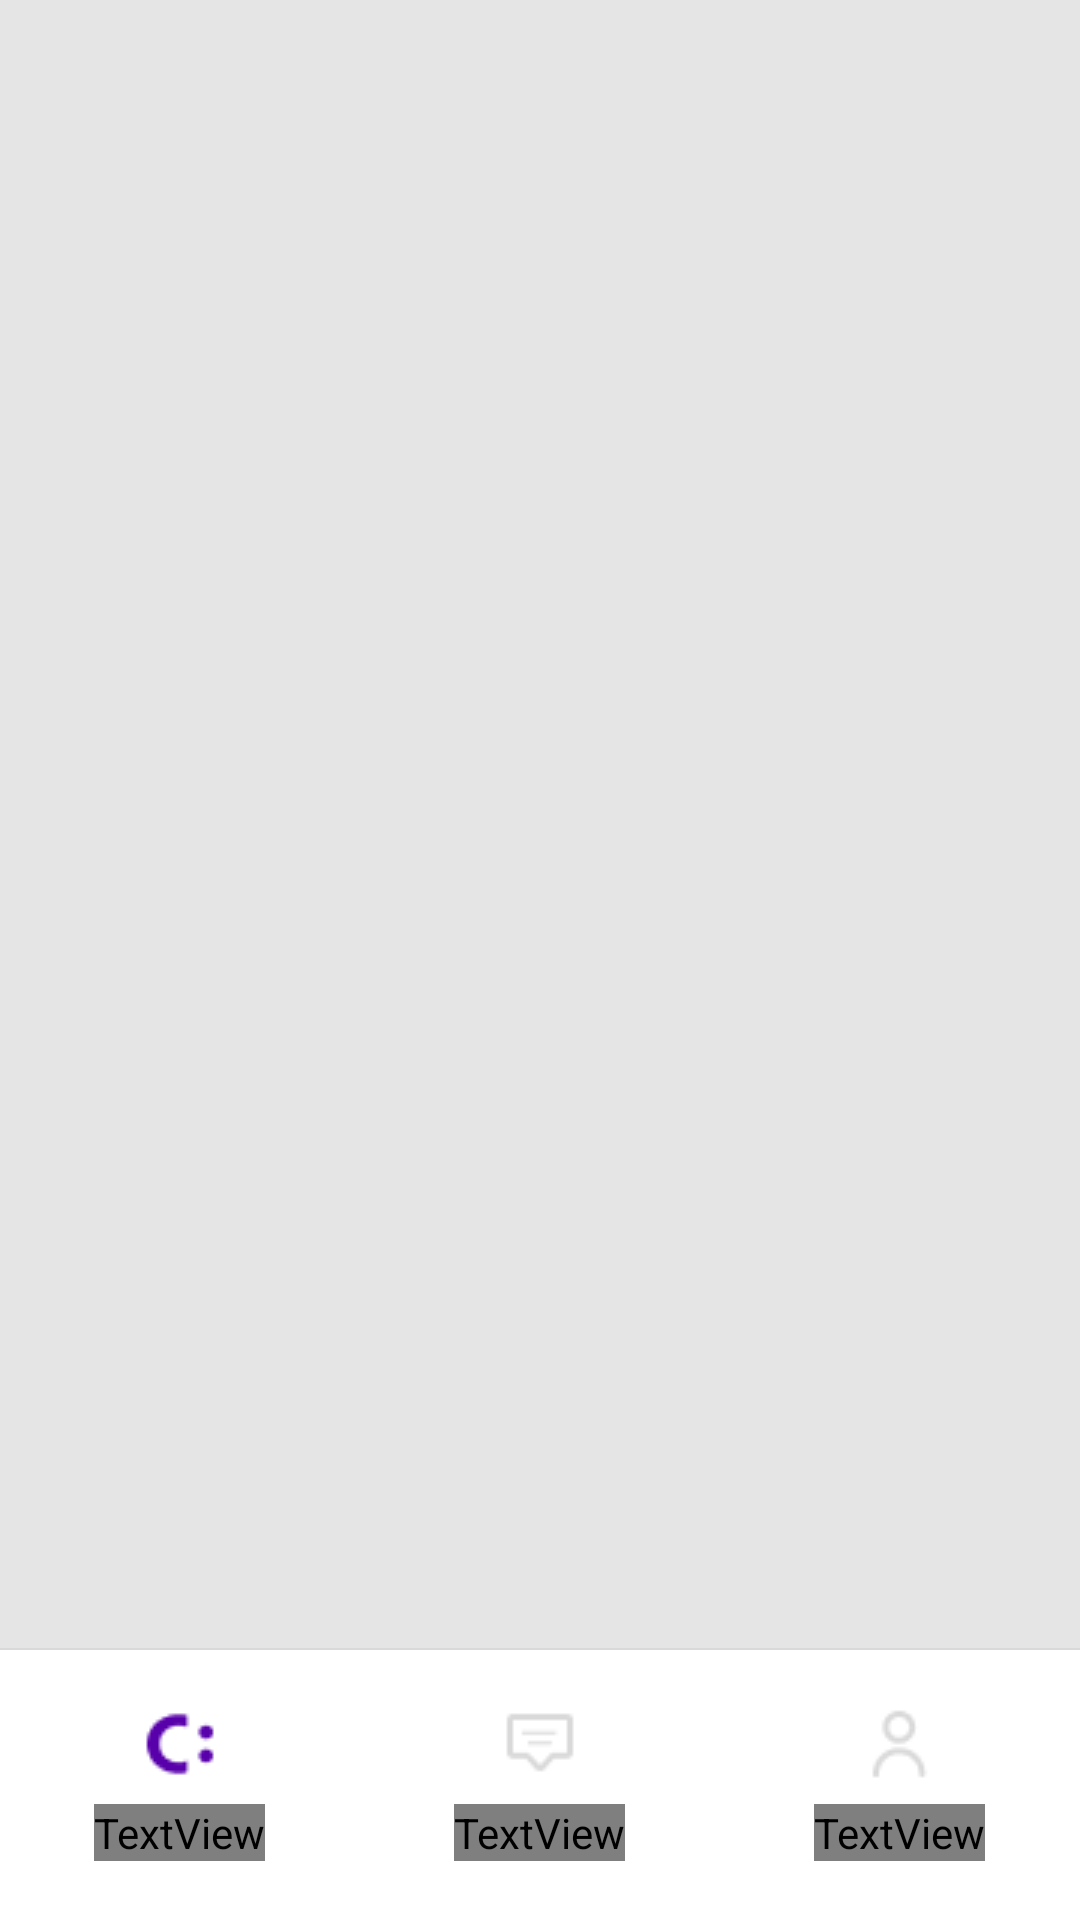

Point at icon controls on the screen. Image size 1080×1920, points as [x,y].
messages: [540,1742]
profile: [898,1743]
